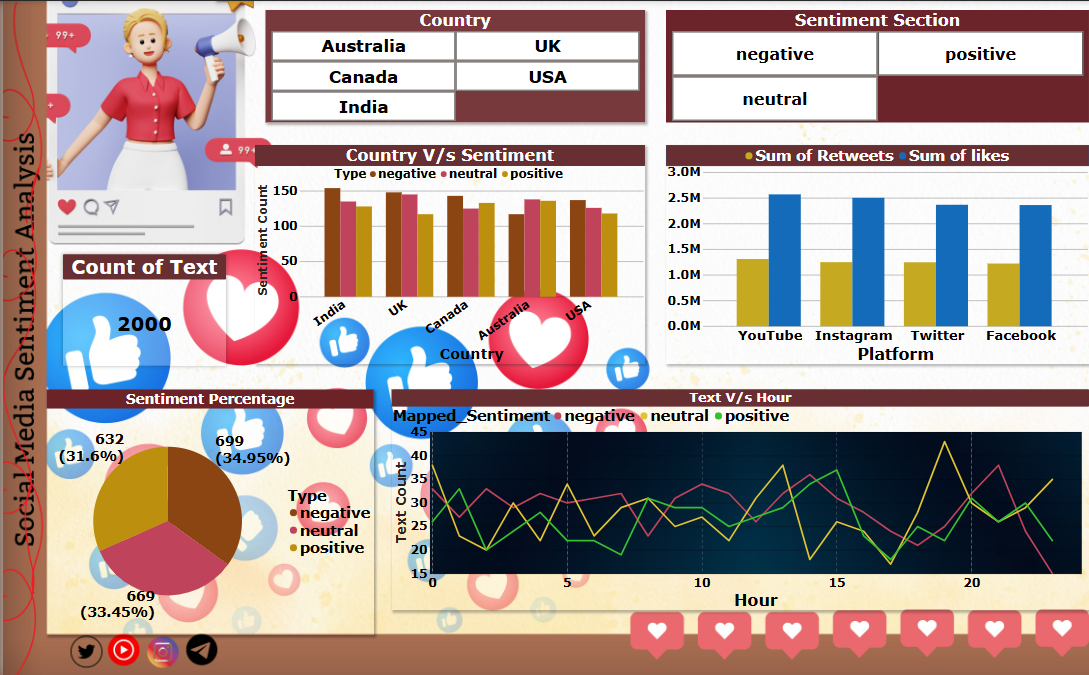

The dashboard page shown, as its layout file describes it:
{"tool":"powerbi","page":{"name":"Page 1","canvas":[4500,2800],"ordinal":0},"visuals":[{"type":"shape","box":[2745,597.5,1752.5,87.5],"z":0},{"type":"pieChart","title":"Sentiment Percentage","fields":{"Category":["fake_social_media_data_with_sentiment.type"],"Y":["CountNonNull(fake_social_media_data_with_sentiment.type)"]},"box":[180,1610,1355,1017.5],"z":1000},{"type":"clusteredColumnChart","title":"Country V/s Sentiment","fields":{"Series":["fake_social_media_data_with_sentiment.type"],"Y":["CountNonNull(fake_social_media_data_with_sentiment.Text)"],"Category":["fake_social_media_data_with_sentiment.Country"]},"box":[1045,597.5,1615,905],"z":2000},{"type":"slicer","title":"Sentiment Section","fields":{"Values":["fake_social_media_data_with_sentiment.Mapped_Sentiment"]},"box":[2746.2,37.3,1752.1,466],"z":3000},{"type":"clusteredColumnChart","fields":{"Y":["Sum(fake_social_media_data_with_sentiment.Retweets)","Sum(fake_social_media_data_with_sentiment.likes)"],"Category":["fake_social_media_data_with_sentiment.platform"]},"box":[2745,597.5,1752.5,907.5],"z":4000},{"type":"slicer","title":"Country","fields":{"Values":["fake_social_media_data_with_sentiment.Country"]},"box":[1087.3,37.3,1571.9,466],"z":5000},{"type":"lineChart","title":"Text V/s Hour","fields":{"Category":["fake_social_media_data_with_sentiment.Hour"],"Y":["CountNonNull(fake_social_media_data_with_sentiment.Text)"],"Series":["fake_social_media_data_with_sentiment.Mapped_Sentiment"]},"box":[1610,1610,2890,915],"z":6000},{"type":"card","title":"Count of Text","fields":{"Values":["CountNonNull(fake_social_media_data_with_sentiment.Text)"]},"box":[250,1050,675,460],"z":7000}]}

Visuals, with their boxes in screenshot pixels (x1, y1, x2, y2), scaled from the page's 4500x2800 canvas onto the 1089x675 screenshot:
shape: detection(664, 144, 1088, 165)
"Sentiment Percentage" pieChart: detection(44, 388, 371, 633)
"Country V/s Sentiment" clusteredColumnChart: detection(253, 144, 644, 362)
"Sentiment Section" slicer: detection(665, 9, 1088, 121)
clusteredColumnChart - Sum(fake_social_media_data_with_sentiment.Retweets) x Sum(fake_social_media_data_with_sentiment.likes): detection(664, 144, 1088, 363)
"Country" slicer: detection(263, 9, 644, 121)
"Text V/s Hour" lineChart: detection(390, 388, 1088, 609)
"Count of Text" card: detection(60, 253, 224, 364)
